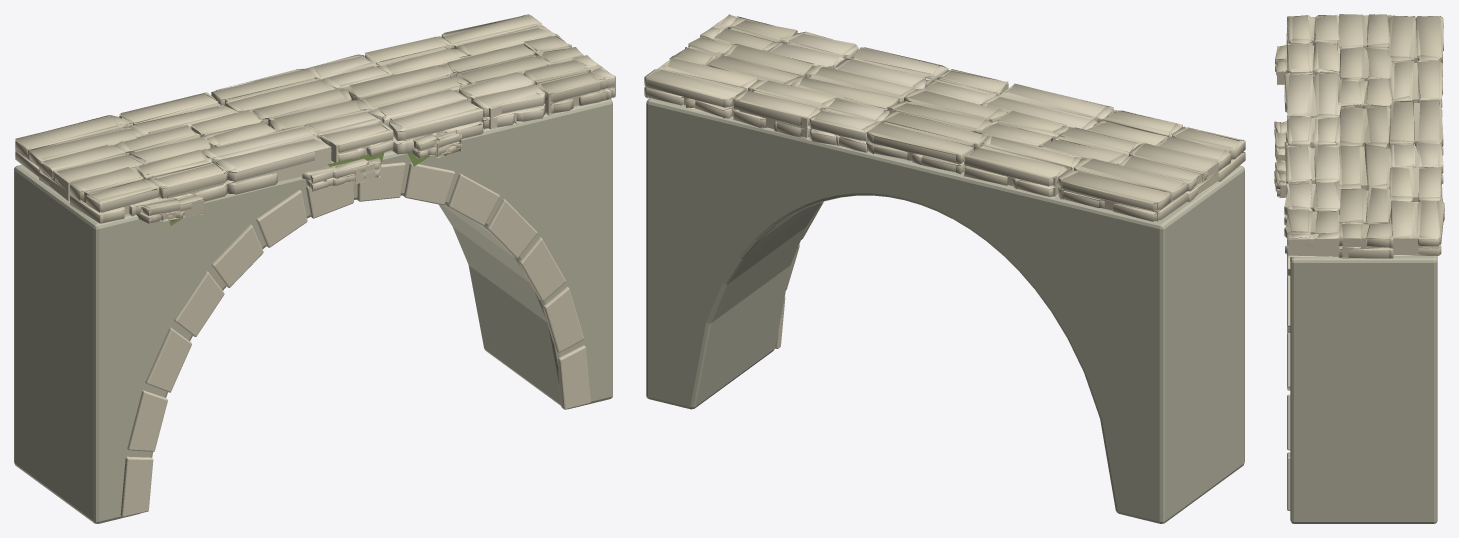
File: bridge-08.glb
3 views of the same model, side by side, from view 1: azimuth 30°, elevation 25°; view 2: azimuth 150°, elevation 25°; view 3: azimuth 270°, elevation 25° (orthographic). The views are drawn at different scales.
Visible parts, largest first — view 1: Continuous arch foundation.007, CC0 worn paving.109, CC0 worn paving.111, CC0 worn paving.122, CC0 worn paving.107, CC0 worn paving.112, CC0 worn paving.108, CC0 worn paving.110, CC0 worn paving.113, CC0 worn paving.124, CC0 worn paving.119, CC0 worn paving.115 (+24 smaller); view 2: Continuous arch foundation.007, CC0 worn paving.122, CC0 worn paving.124, CC0 worn paving.123, CC0 worn paving.127, CC0 worn paving.126, CC0 worn paving.109, CC0 worn paving.119, CC0 worn paving.115, CC0 worn paving.125, CC0 worn paving.118, CC0 worn paving.111 (+9 smaller); view 3: Continuous arch foundation.007, CC0 worn paving.127, CC0 worn paving.122, CC0 worn paving.109, CC0 worn paving.124, CC0 worn paving.119, CC0 worn paving.123, CC0 worn paving.111, CC0 worn paving.118, CC0 worn paving.121, CC0 worn paving.120, CC0 worn paving.126 (+15 smaller).
Part boxes in pixels (x1,y1,x2,y2): Continuous arch foundation.007: [14, 99, 612, 523]; CC0 worn paving.109: [201, 124, 331, 195]; CC0 worn paving.111: [368, 89, 483, 154]; CC0 worn paving.122: [15, 115, 143, 177]; CC0 worn paving.107: [70, 167, 159, 223]; CC0 worn paving.112: [459, 72, 545, 130]; CC0 worn paving.108: [135, 150, 228, 202]; CC0 worn paving.110: [306, 109, 393, 162]; CC0 worn paving.113: [520, 59, 608, 115]; CC0 worn paving.124: [211, 68, 335, 111]; CC0 worn paving.119: [346, 65, 468, 110]; CC0 worn paving.115: [39, 144, 143, 201]; Continuous arch foundation.007: [646, 98, 1244, 523]; CC0 worn paving.122: [1058, 158, 1188, 222]; CC0 worn paving.124: [866, 111, 988, 174]; CC0 worn paving.123: [964, 135, 1083, 197]; CC0 worn paving.127: [644, 57, 757, 118]; CC0 worn paving.126: [733, 80, 836, 139]; CC0 worn paving.109: [981, 83, 1114, 130]; CC0 worn paving.119: [791, 65, 918, 109]; CC0 worn paving.115: [1117, 142, 1218, 201]; CC0 worn paving.125: [809, 97, 890, 152]; CC0 worn paving.118: [887, 89, 1006, 131]; CC0 worn paving.111: [834, 47, 948, 92]; Continuous arch foundation.007: [1290, 256, 1437, 523]; CC0 worn paving.127: [1390, 200, 1444, 255]; CC0 worn paving.122: [1387, 15, 1443, 63]; CC0 worn paving.109: [1284, 72, 1341, 128]; CC0 worn paving.124: [1389, 100, 1443, 155]; CC0 worn paving.119: [1337, 145, 1391, 189]; CC0 worn paving.123: [1389, 59, 1442, 116]; CC0 worn paving.111: [1285, 144, 1339, 194]; CC0 worn paving.118: [1335, 105, 1390, 147]; CC0 worn paving.121: [1339, 223, 1393, 258]; CC0 worn paving.120: [1339, 187, 1393, 225]; CC0 worn paving.126: [1389, 166, 1442, 201].
Size of the model in its own units: 8 by 4.78 by 2.57.
